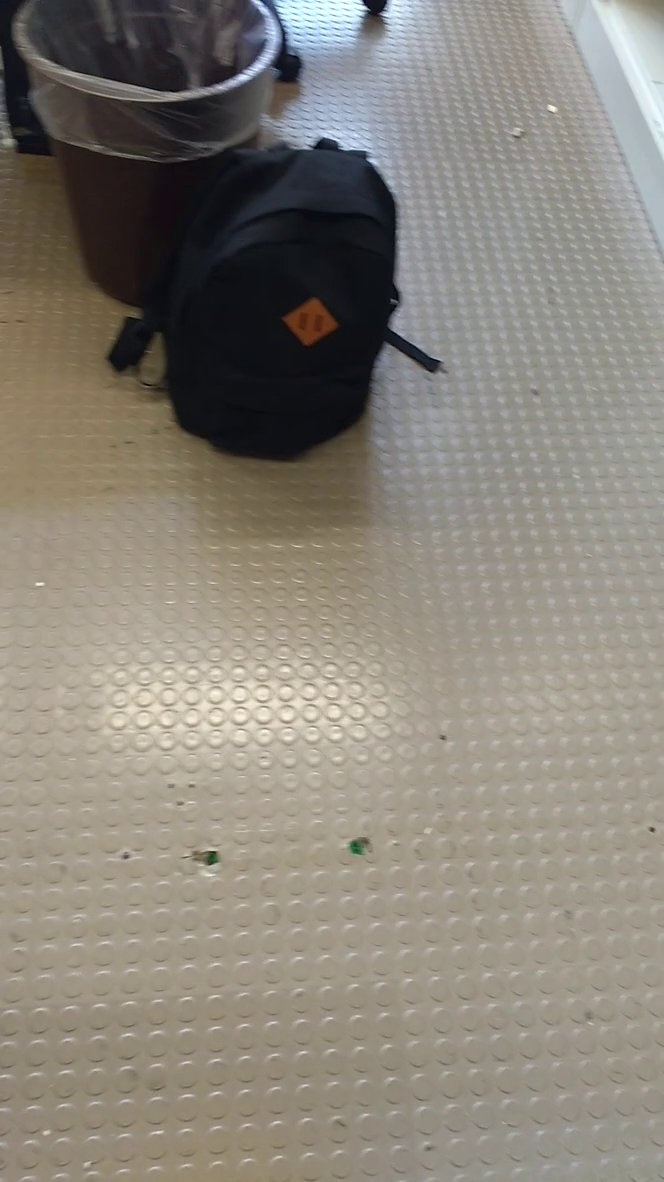bag: (94, 130, 442, 469)
bin: (10, 1, 286, 219)
